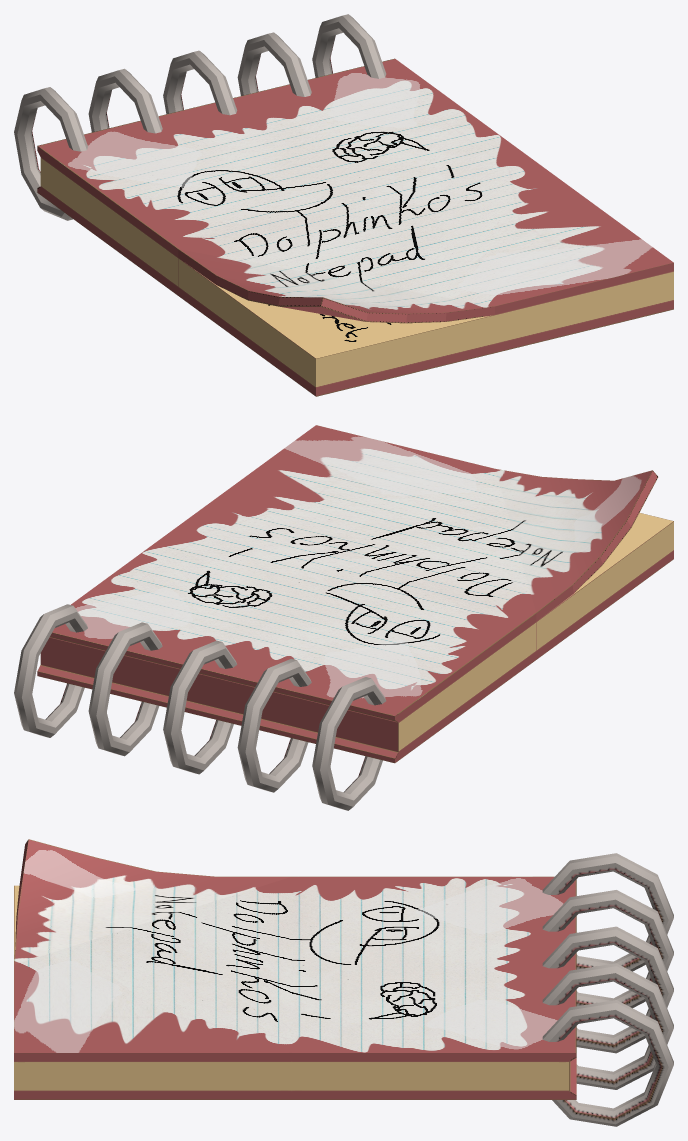
File: Notepad.fbx
3 renders of one model, top to bottom at view 1: azimuth 30°, elevation 25°; view 2: azimuth 150°, elevation 25°; view 3: azimuth 270°, elevation 25°, orthographic.
Visible parts, largest first — view 1: Notepad, Rings; view 2: Notepad, Rings; view 3: Notepad, Rings.
Part boxes in pixels (x1=…): Notepad: x1=37, y1=58, x2=673, y2=396; Rings: x1=14, y1=14, x2=386, y2=220; Notepad: x1=37, y1=425, x2=673, y2=763; Rings: x1=14, y1=604, x2=386, y2=810; Notepad: x1=14, y1=839, x2=576, y2=1099; Rings: x1=542, y1=853, x2=673, y2=1126.
Bounding box in the file's own units: 60.01 × 20.91 × 95.01.
1 material, 1 textured.
